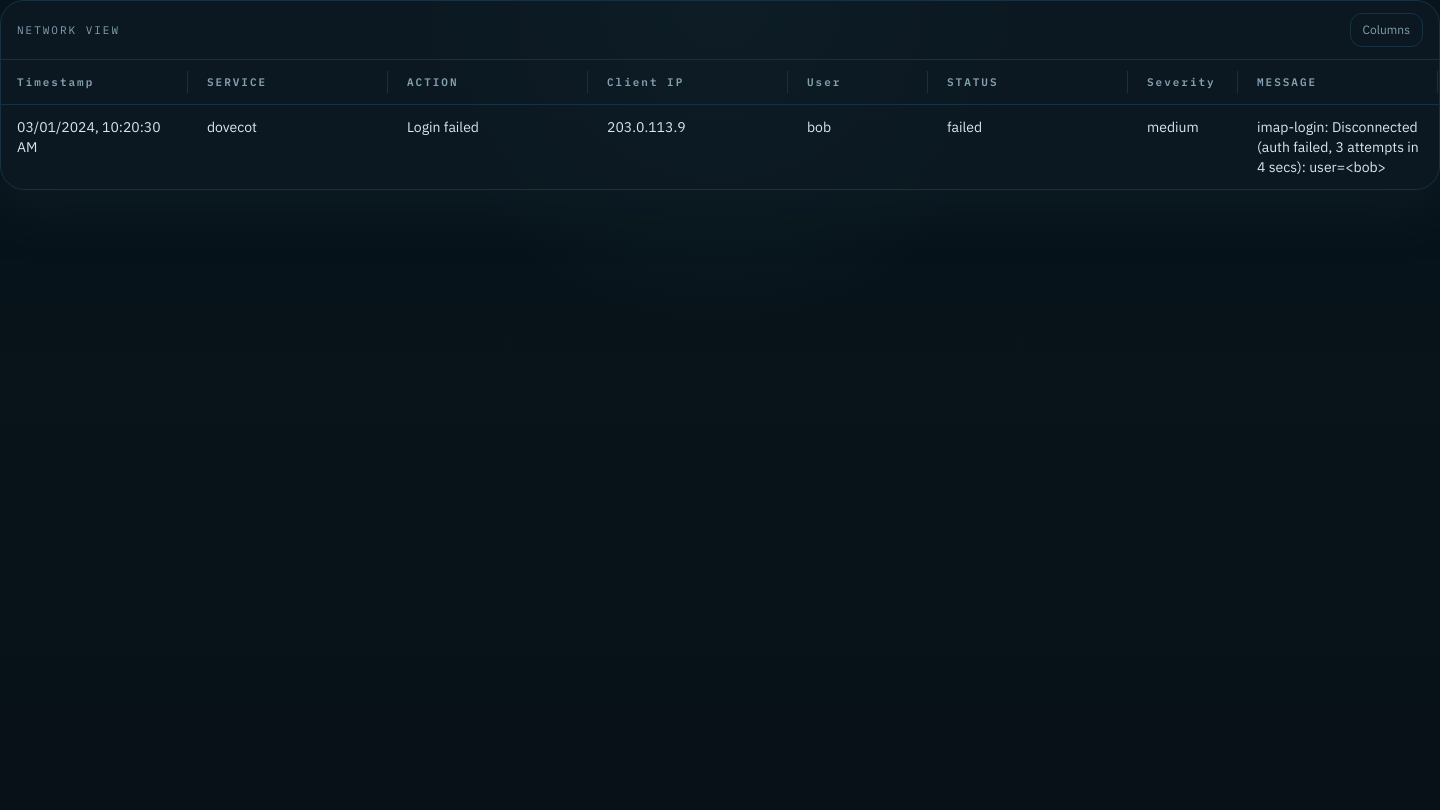
Linux log tables: mail server › opens a Mail detail section
The width and height of the screenshot is (1440, 810).
Click the button "203.0.113.9": x=646, y=127 x1=607 y1=118 x2=686 y2=136
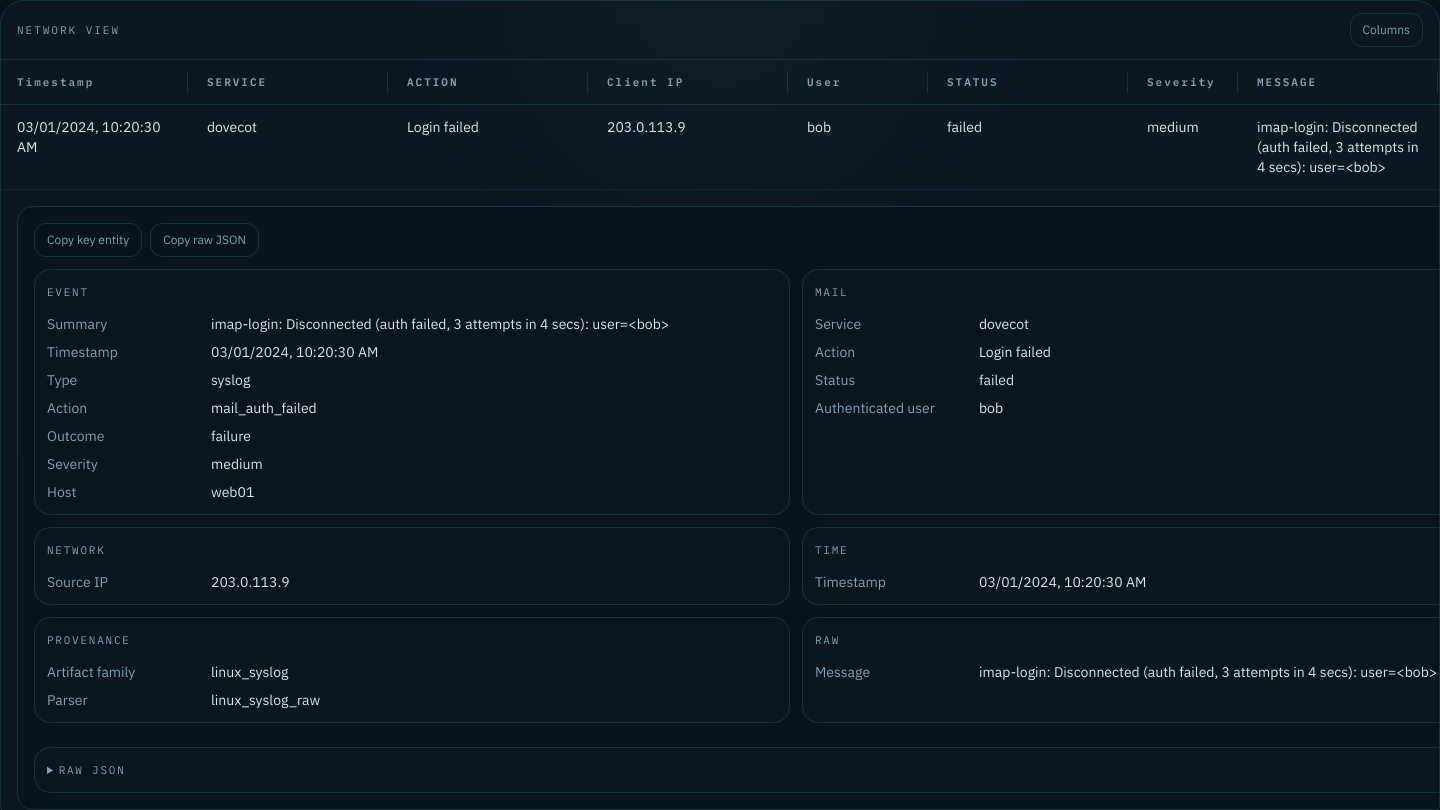
Result: the text "Mail" is shown at x1=815 y1=285 x2=848 y2=299
Result: the text "Authenticated user" is shown at x1=815 y1=399 x2=935 y2=417
